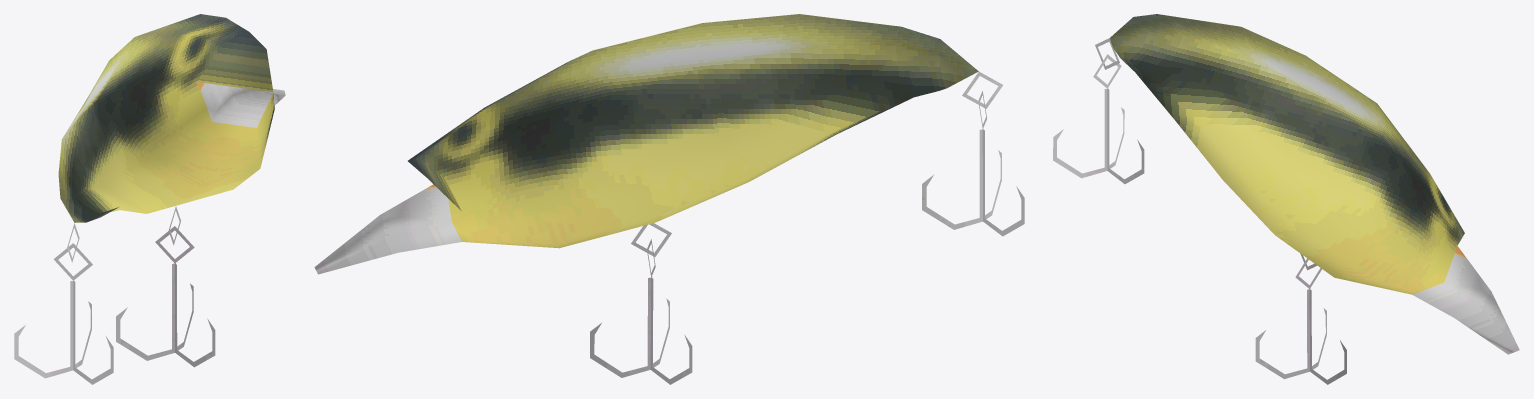
Rendered from ps2_save-icons_fishermansbassclub.glb.
3 views of the same model, side by side, from view 1: azimuth 30°, elevation 25°; view 2: azimuth 150°, elevation 25°; view 3: azimuth 270°, elevation 25° (orthographic). The views are drawn at different scales.
Visible parts, largest first — view 1: icon1.ico; view 2: icon1.ico; view 3: icon1.ico.
Part boxes in pixels (x1,y1,x2,y2): icon1.ico: (14,14,285,384); icon1.ico: (314,14,1024,384); icon1.ico: (1053,14,1519,384).
Bounding box in the file's own units: 3.36 × 2.24 × 3.07.
Materials: 1 (1 with a texture image).
